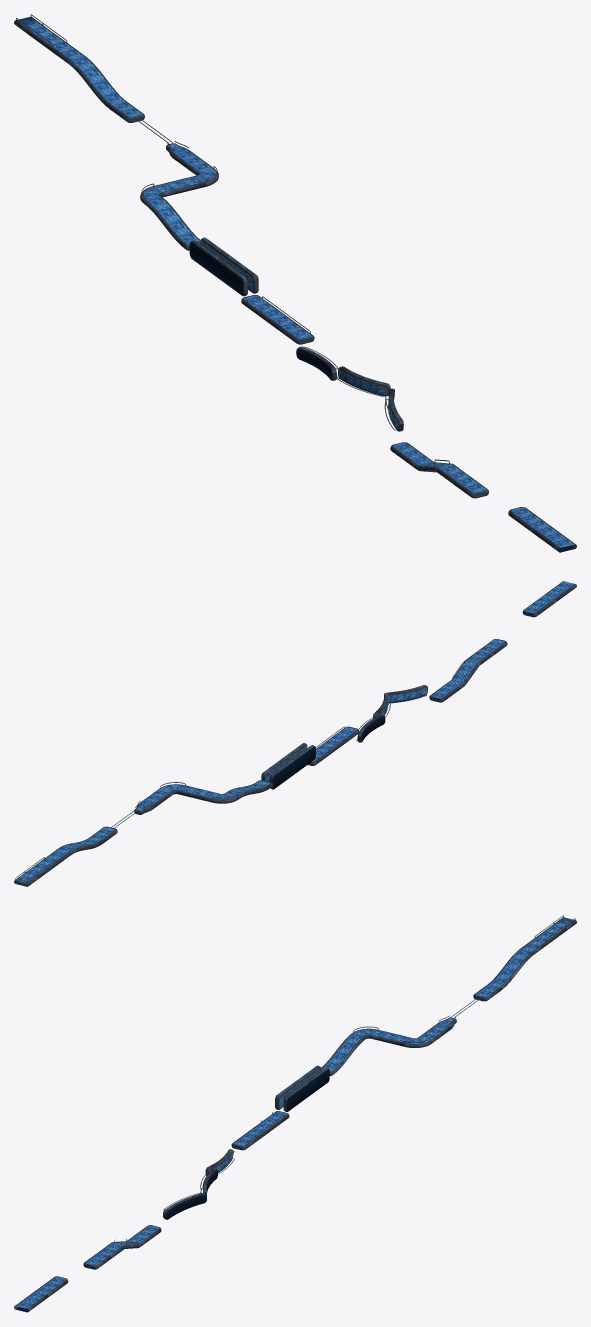
Rendered from map45.fbx.
3 renders of one model, top to bottom at view 1: azimuth 30°, elevation 25°; view 2: azimuth 150°, elevation 25°; view 3: azimuth 330°, elevation 25°, orthographic. The views are drawn at different scales.
Parts seen in each view (by area): view 1: Dummy_Start_1; view 2: Dummy_Start_1; view 3: Dummy_Start_1.
Boxes of the visible parts, bbox=[...] form: Dummy_Start_1: bbox=[14, 14, 576, 552]; Dummy_Start_1: bbox=[14, 581, 576, 886]; Dummy_Start_1: bbox=[14, 915, 576, 1312].
Size of the model in its own units: 2580 by 2273 by 29795.
Materials: 6 (5 with a texture image).
